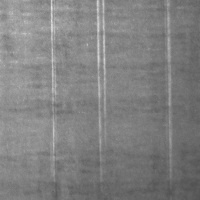scratches: (94, 1, 110, 168), (163, 3, 176, 180), (48, 1, 60, 177)
